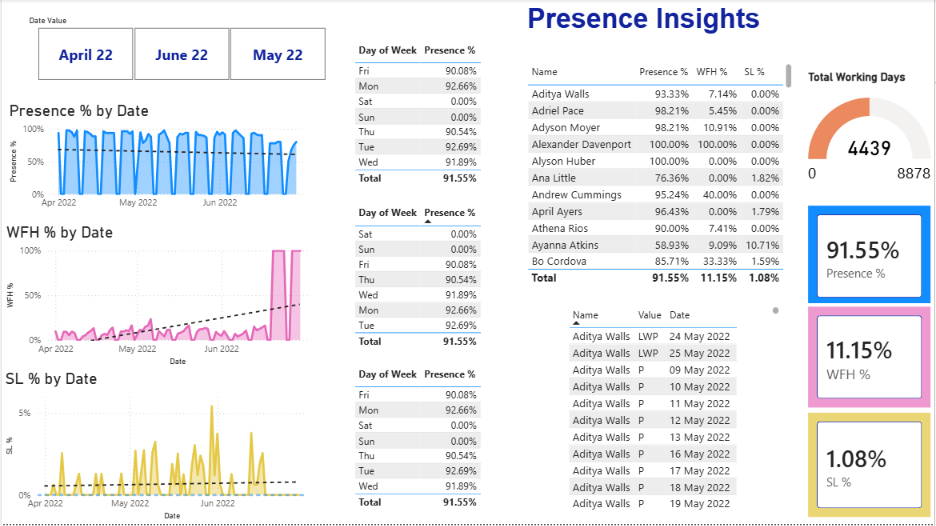

This screenshot's page, from the dashboard's own definition file:
{"tool":"powerbi","page":{"name":"Page 1","canvas":[1280,720],"ordinal":0},"visuals":[{"type":"gauge","fields":{"Y":["Measure.Total Working Days"]},"box":[1101.9,97.4,178.4,181.1],"z":0},{"type":"cardVisual","fields":{"Data":["Measure.Presence %"]},"box":[1101.9,278.6,178.4,148.2],"z":1000},{"type":"cardVisual","fields":{"Data":["Measure.WFH %"]},"box":[1101.9,417.2,178.4,148.2],"z":2000},{"type":"cardVisual","fields":{"Data":["Measure.SL %"]},"box":[1101.9,562.6,178.4,153.7],"z":3000},{"type":"tableEx","fields":{"Values":["Final Data.Name","Measure.Presence %","Measure.WFH %","Measure.SL %"]},"box":[716.3,83.7,373.2,314.2],"z":4000},{"type":"slicer","fields":{"Values":["Final Data.Date Value"]},"box":[17.8,17.8,450.1,100.2],"z":5000},{"type":"tableEx","fields":{"Values":["Final Data.Name","Final Data.Value","Final Data.Date Hierarchy.Date"]},"box":[772.6,417.2,299.1,289.5],"z":6000},{"type":"areaChart","fields":{"Category":["Final Data.Date Hierarchy.Date"],"Y":["Measure.Presence %"]},"box":[5.5,140,428.1,157.8],"z":7000},{"type":"areaChart","fields":{"Category":["Final Data.Date Hierarchy.Date"],"Y":["Measure.WFH %"]},"box":[1.4,307.4,437.7,200.3],"z":8000},{"type":"areaChart","fields":{"Category":["Final Data.Date Hierarchy.Date"],"Y":["Measure.SL %"]},"box":[0,507.7,437.7,212.7],"z":9000},{"type":"tableEx","fields":{"Values":["Final Data.Day of Week","Measure.Presence %"]},"box":[478.9,53.5,227.8,214.1],"z":10000},{"type":"tableEx","fields":{"Values":["Final Data.Day of Week","Measure.Presence %"]},"box":[478.9,277.2,208.6,214.1],"z":11000},{"type":"tableEx","fields":{"Values":["Final Data.Day of Week","Measure.Presence %"]},"box":[478.9,498.1,208.6,208.6],"z":12000},{"type":"textbox","box":[716.3,0,355.4,68.6],"z":13000}]}

Visuals, with their boxes in screenshot pixels (x1, y1, x2, y2), scaled from the page's 1280x720 canvas onto the 936x526 screenshot:
gauge - Measure.Total Working Days: pyautogui.locateOnScreen(806, 71, 935, 203)
cardVisual - Measure.Presence %: pyautogui.locateOnScreen(806, 204, 935, 312)
cardVisual - Measure.WFH %: pyautogui.locateOnScreen(806, 305, 935, 413)
cardVisual - Measure.SL %: pyautogui.locateOnScreen(806, 411, 935, 523)
tableEx - Final Data.Name x Measure.Presence %: pyautogui.locateOnScreen(524, 61, 797, 291)
slicer - Final Data.Date Value: pyautogui.locateOnScreen(13, 13, 342, 86)
tableEx - Final Data.Name x Final Data.Value: pyautogui.locateOnScreen(565, 305, 784, 516)
areaChart - Final Data.Date Hierarchy.Date x Measure.Presence %: pyautogui.locateOnScreen(4, 102, 317, 218)
areaChart - Final Data.Date Hierarchy.Date x Measure.WFH %: pyautogui.locateOnScreen(1, 225, 321, 371)
areaChart - Final Data.Date Hierarchy.Date x Measure.SL %: pyautogui.locateOnScreen(0, 371, 320, 525)
tableEx - Final Data.Day of Week x Measure.Presence %: pyautogui.locateOnScreen(350, 39, 517, 195)
tableEx - Final Data.Day of Week x Measure.Presence %: pyautogui.locateOnScreen(350, 203, 503, 359)
tableEx - Final Data.Day of Week x Measure.Presence %: pyautogui.locateOnScreen(350, 364, 503, 516)
textbox: pyautogui.locateOnScreen(524, 0, 784, 50)
